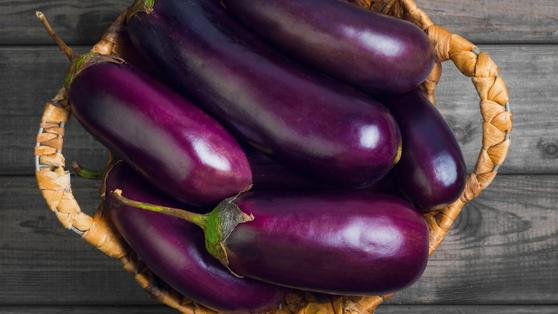eggplant: (58, 50, 250, 194), (203, 194, 427, 291)
